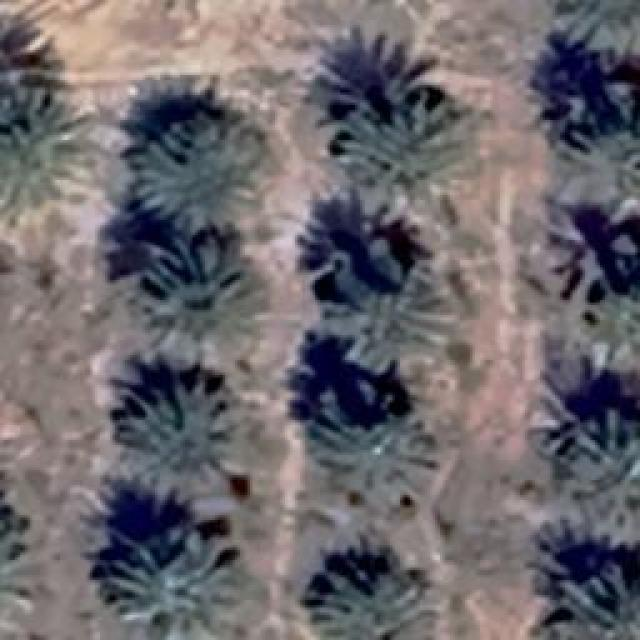PalmTree: (57, 116, 612, 312), (115, 370, 250, 500), (107, 522, 260, 636), (324, 258, 458, 372), (137, 238, 270, 352), (130, 110, 260, 225), (338, 92, 460, 210), (0, 82, 102, 219), (304, 404, 438, 498), (552, 198, 640, 334), (73, 100, 604, 121), (304, 568, 438, 638), (570, 408, 638, 532), (579, 229, 640, 365), (542, 560, 638, 638), (0, 512, 48, 620), (550, 0, 637, 52), (139, 0, 251, 32)
